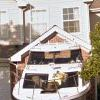Boat: (12, 38, 91, 100)
